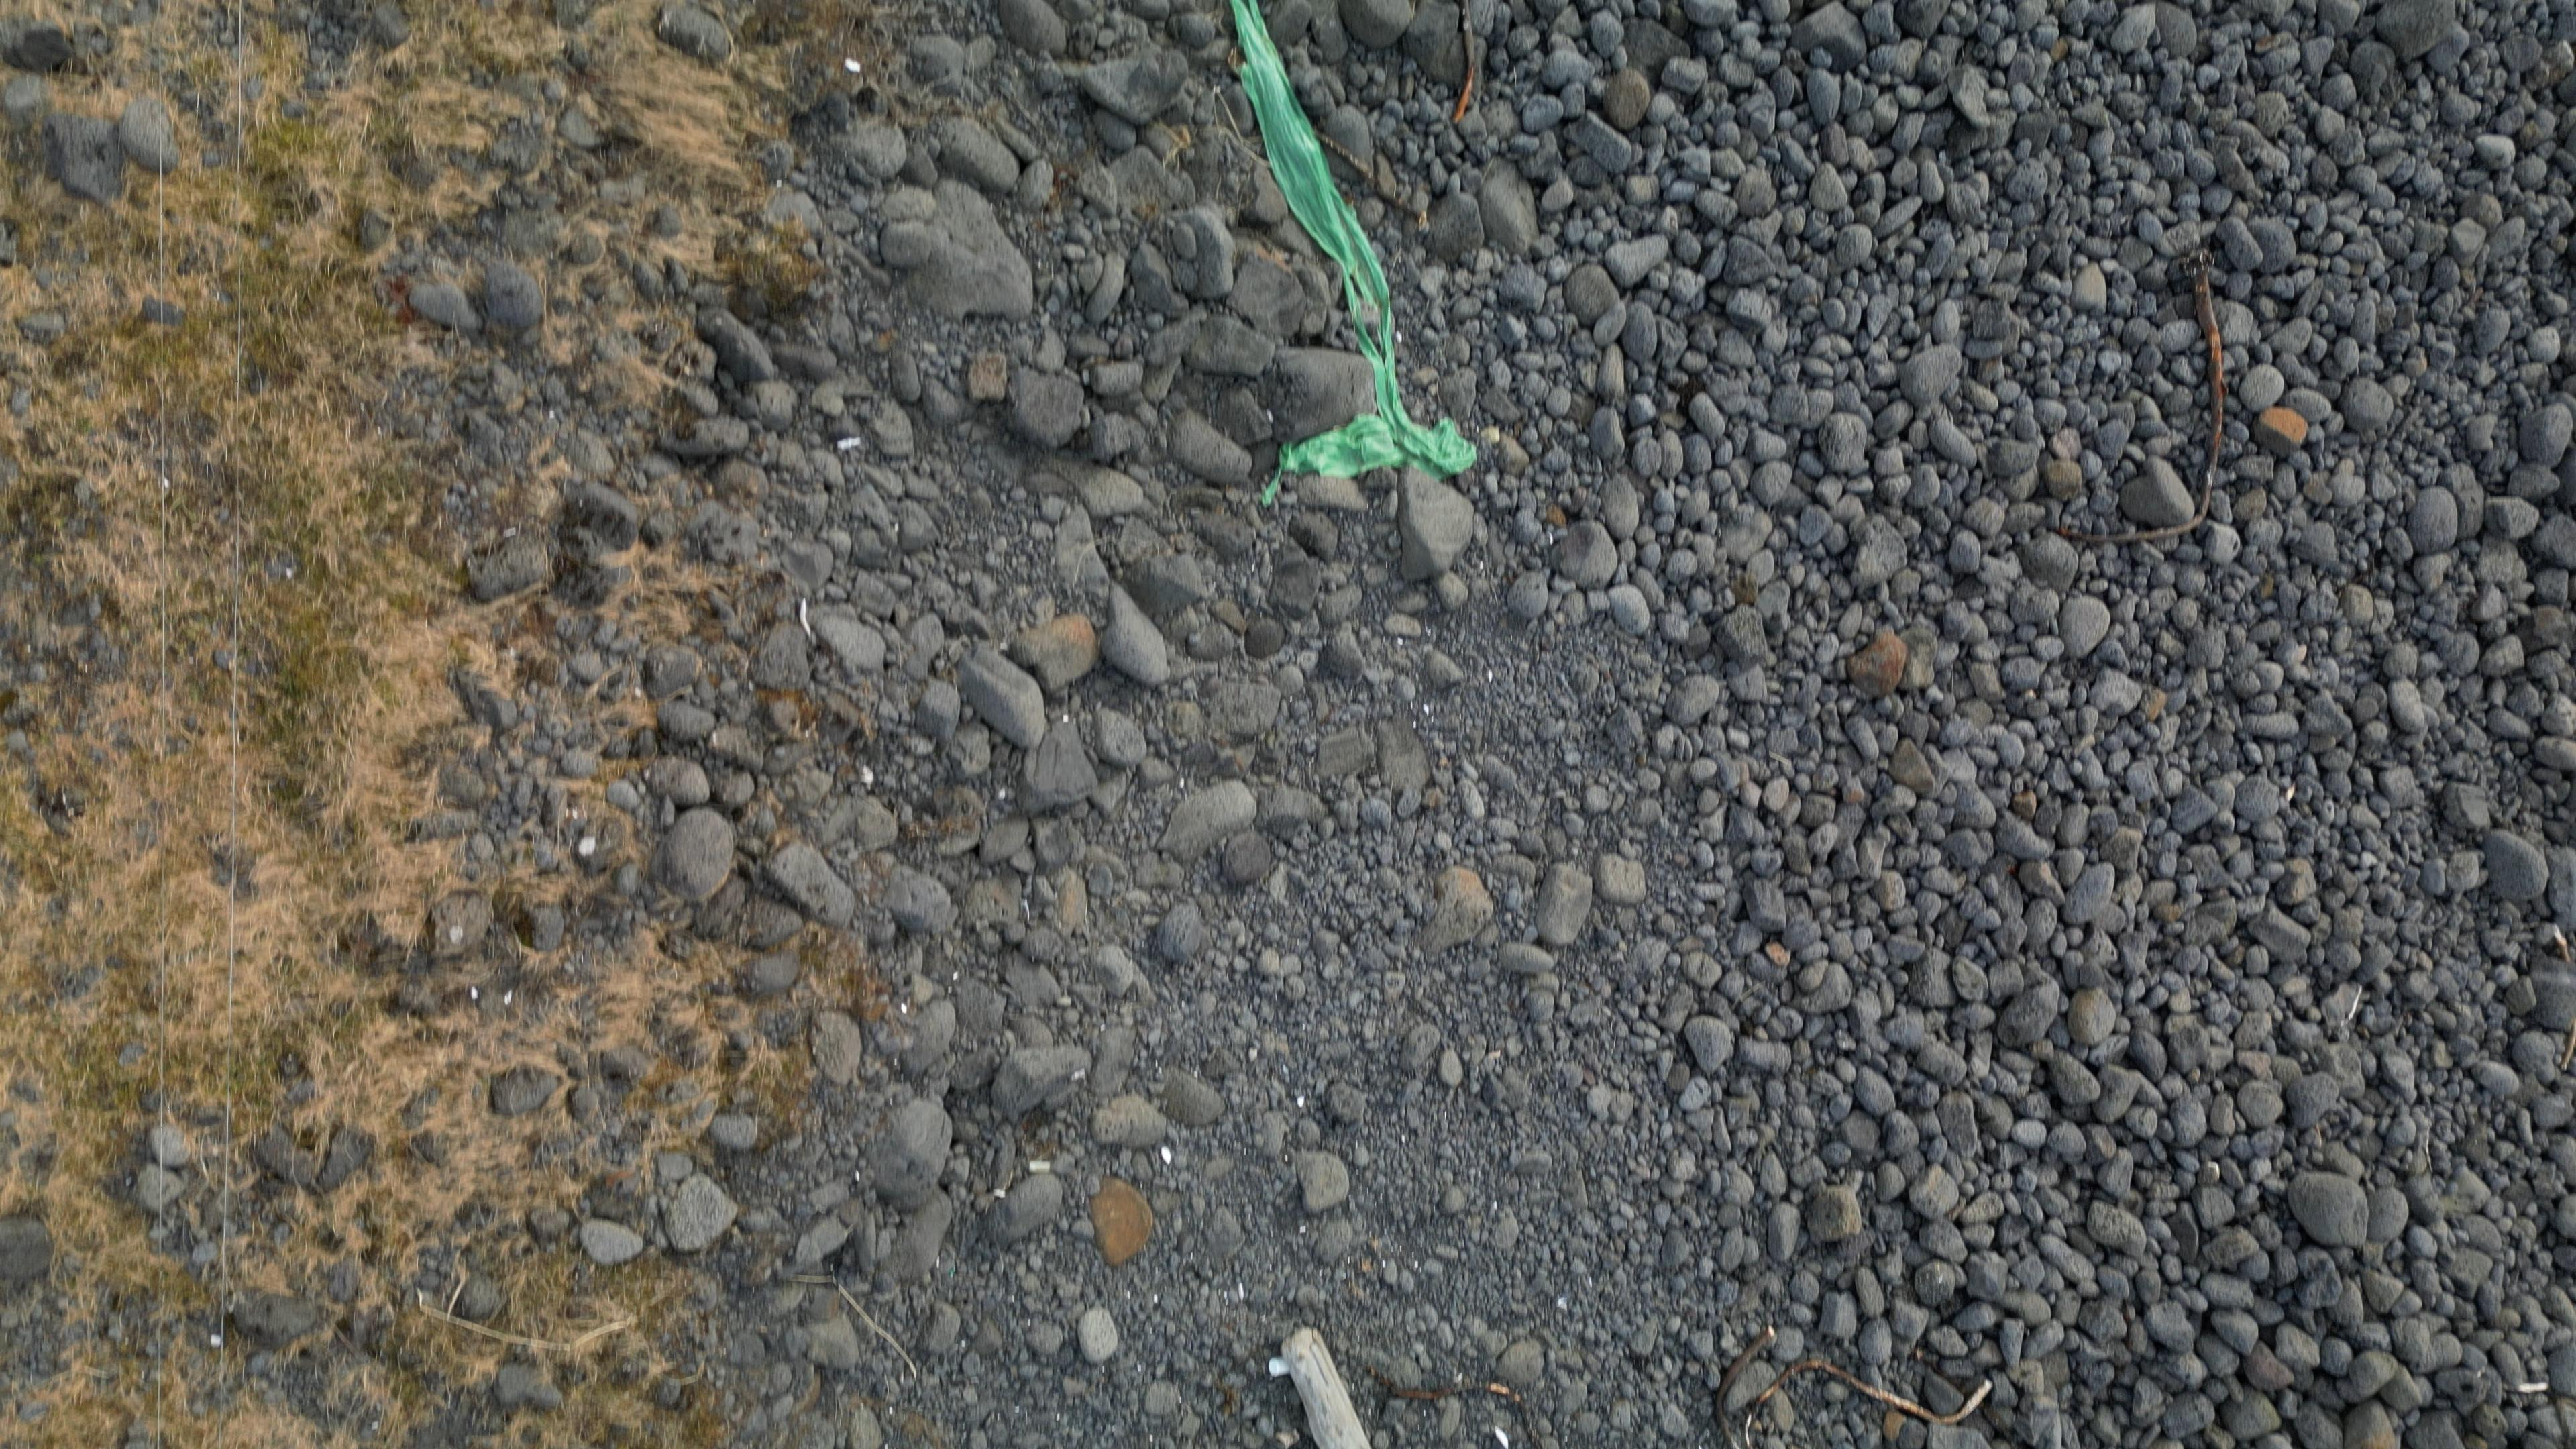trash: (1233, 0, 1474, 478), (1269, 1359, 1288, 1378)
